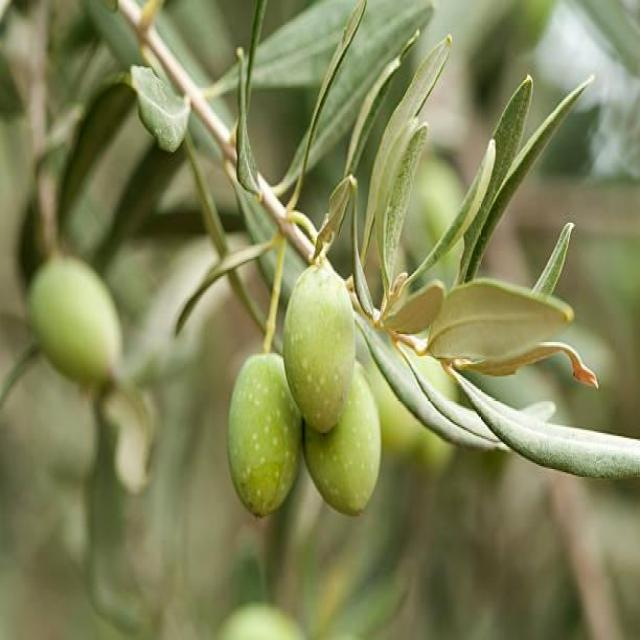Healthy: (283, 259, 355, 431), (228, 353, 301, 518), (303, 376, 381, 515)
